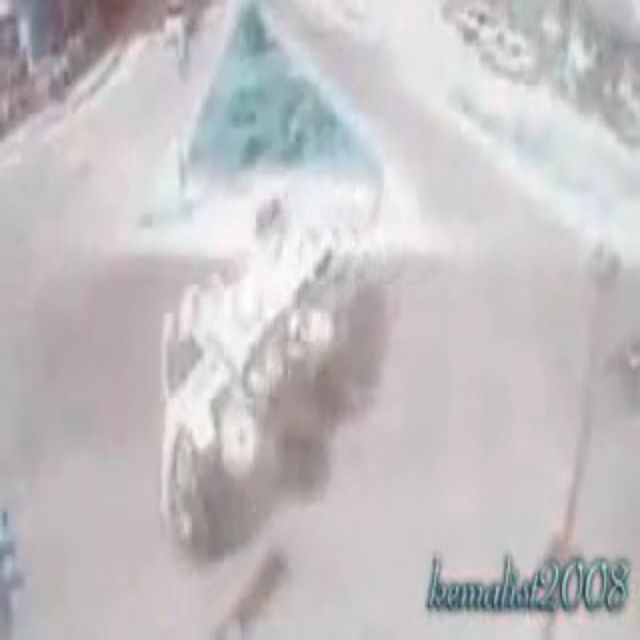acc: (130, 189, 382, 567)
